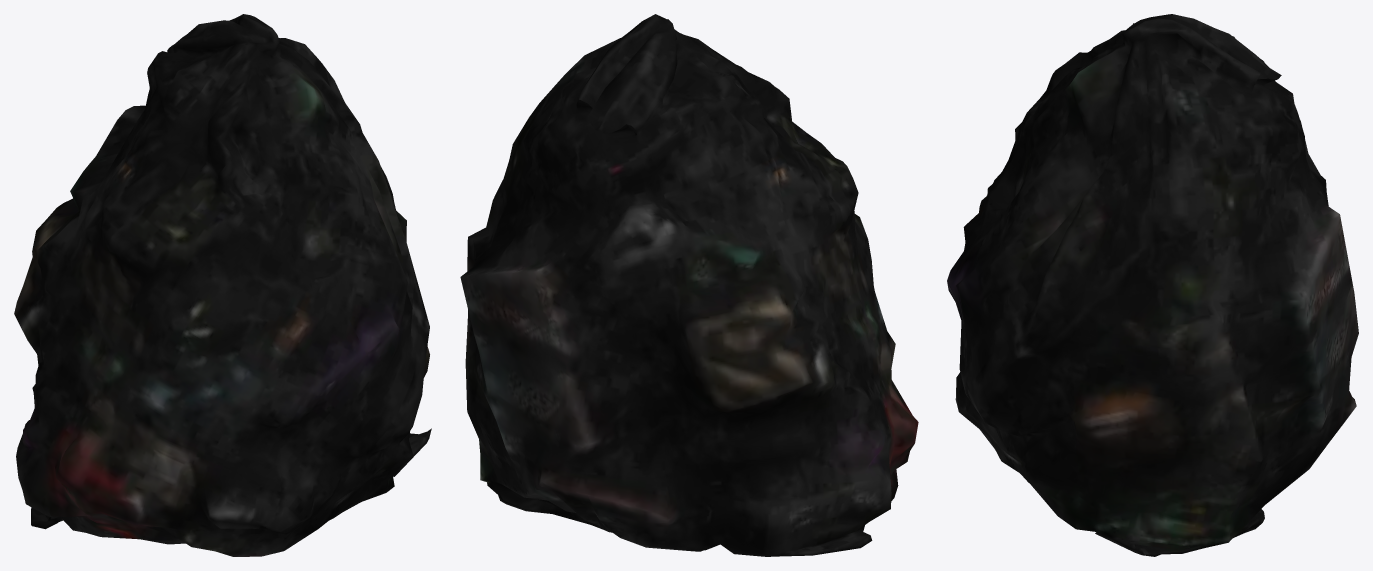
Rendered from trashbag.glb.
The picture shows the model from 3 angles, left to right: view 1: azimuth 30°, elevation 25°; view 2: azimuth 150°, elevation 25°; view 3: azimuth 270°, elevation 25°; orthographic projection. The views are drawn at different scales.
Parts seen in each view (by area): view 1: trashbag; view 2: trashbag; view 3: trashbag.
Boxes of the visible parts, box(x1,y1,x2,y2) form: trashbag: box(14, 14, 431, 556); trashbag: box(460, 14, 918, 556); trashbag: box(947, 14, 1358, 556).
Bounding box in the file's own units: 0.5281 × 0.575 × 0.4629.
Materials: 1 (1 with a texture image).
